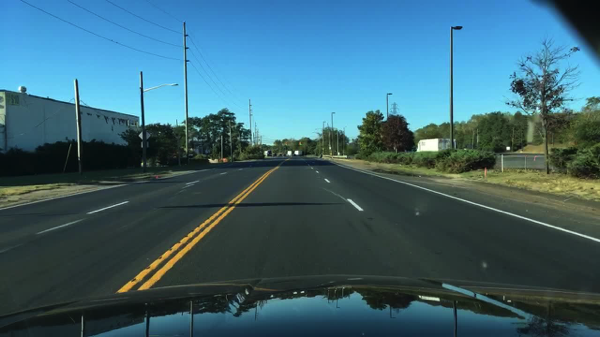car: (266, 150, 273, 158), (273, 152, 277, 157), (278, 152, 282, 157)
traffic light: (299, 139, 303, 146), (284, 141, 288, 147)
traffic sign: (138, 129, 150, 141), (140, 141, 150, 148)
truck: (414, 138, 455, 152), (294, 149, 302, 157), (286, 148, 293, 156)
